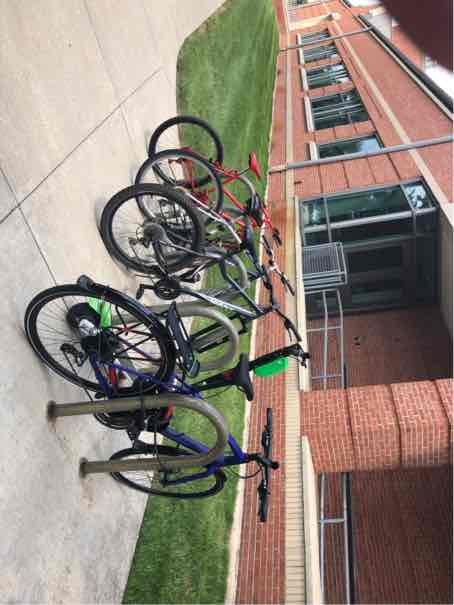scooter: (293, 55, 420, 308)
